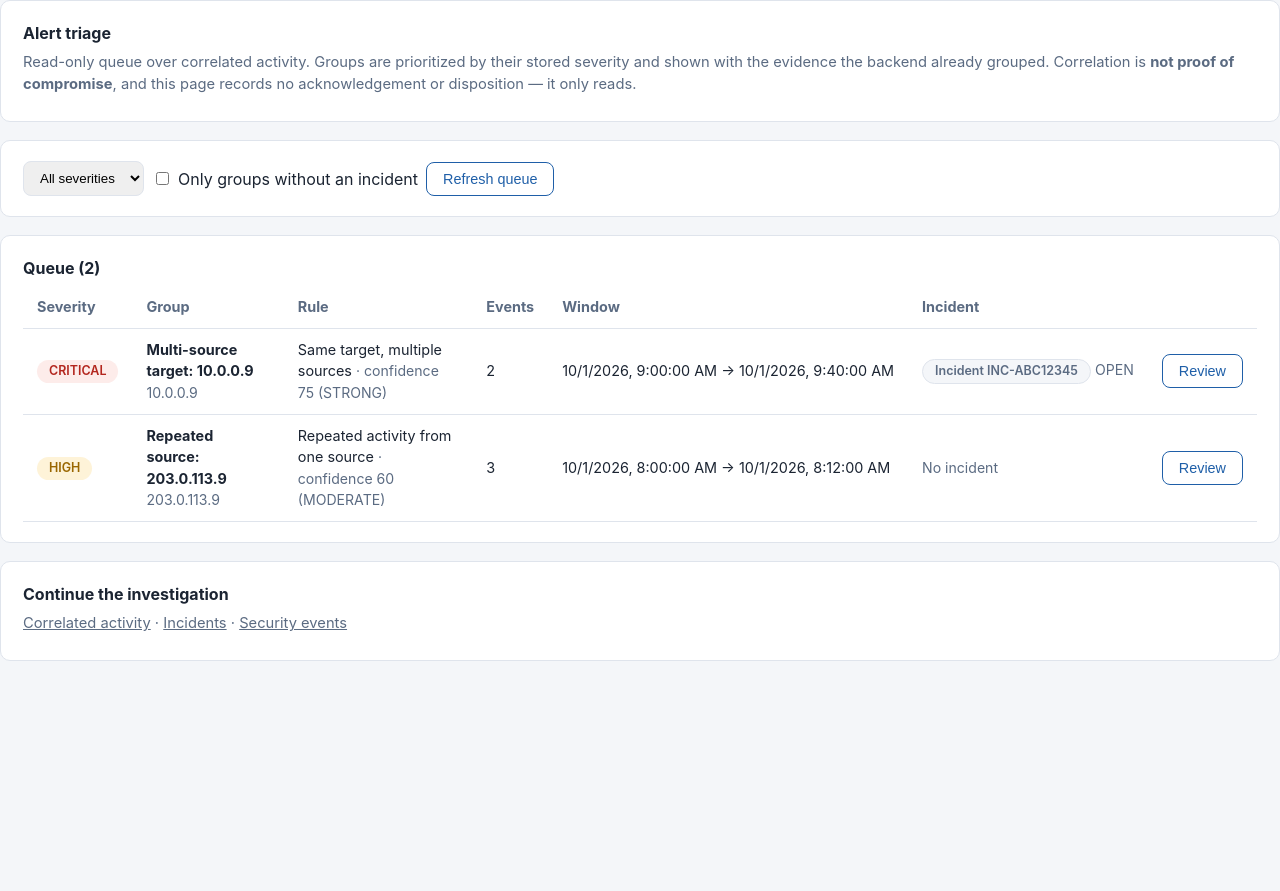
Test case: Alert triage queue (Phase 3, Step 37) › reveals explanation, ordered evidence, attack chain, and incident link on Review
Expected: the number of rows is 3, [23, 286, 1257, 328]; [23, 328, 1257, 414]; [23, 414, 1257, 522]
Click the button "Review" in the row of "CRITICAL".
click(1202, 371)  # box [1162, 354, 1243, 388]
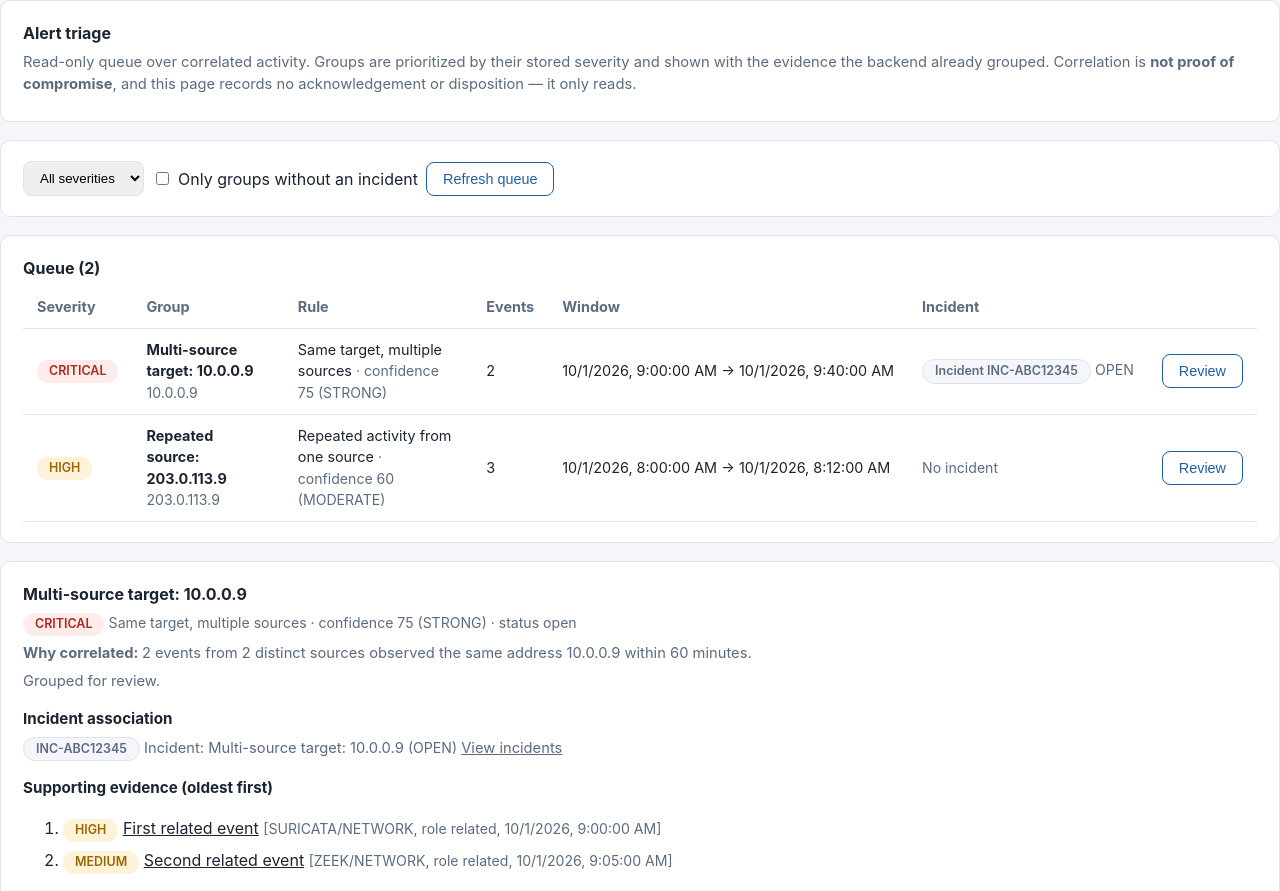
Result: the text "2 events from 2 distinct sources" is shown at [142, 644, 752, 662]
Result: the text "Why correlated:" is shown at [23, 644, 142, 662]
Result: the text "Grouped for review." is shown at [23, 672, 160, 690]
